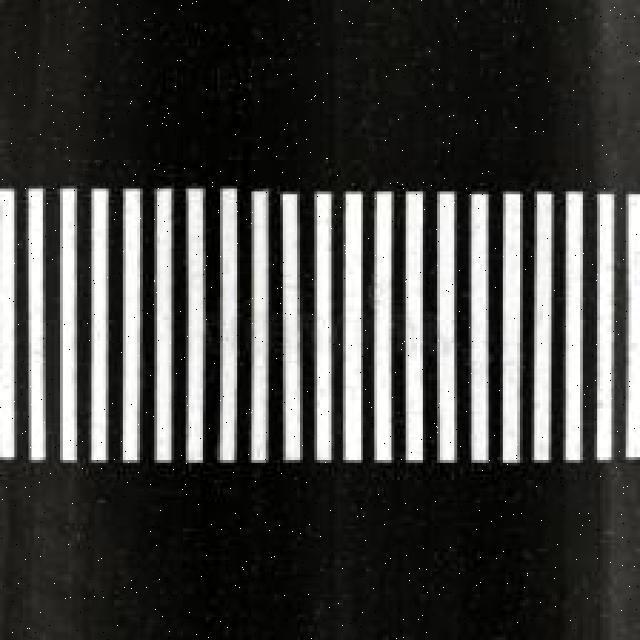crosswalk: (0, 183, 640, 474)
